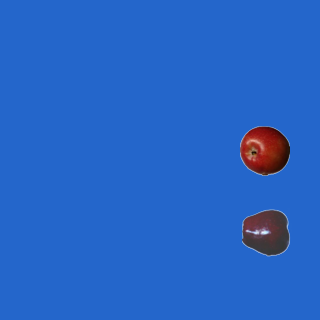Apple Braeburn: (239, 125, 289, 175)
Apple Red Delicious: (241, 207, 291, 257)
